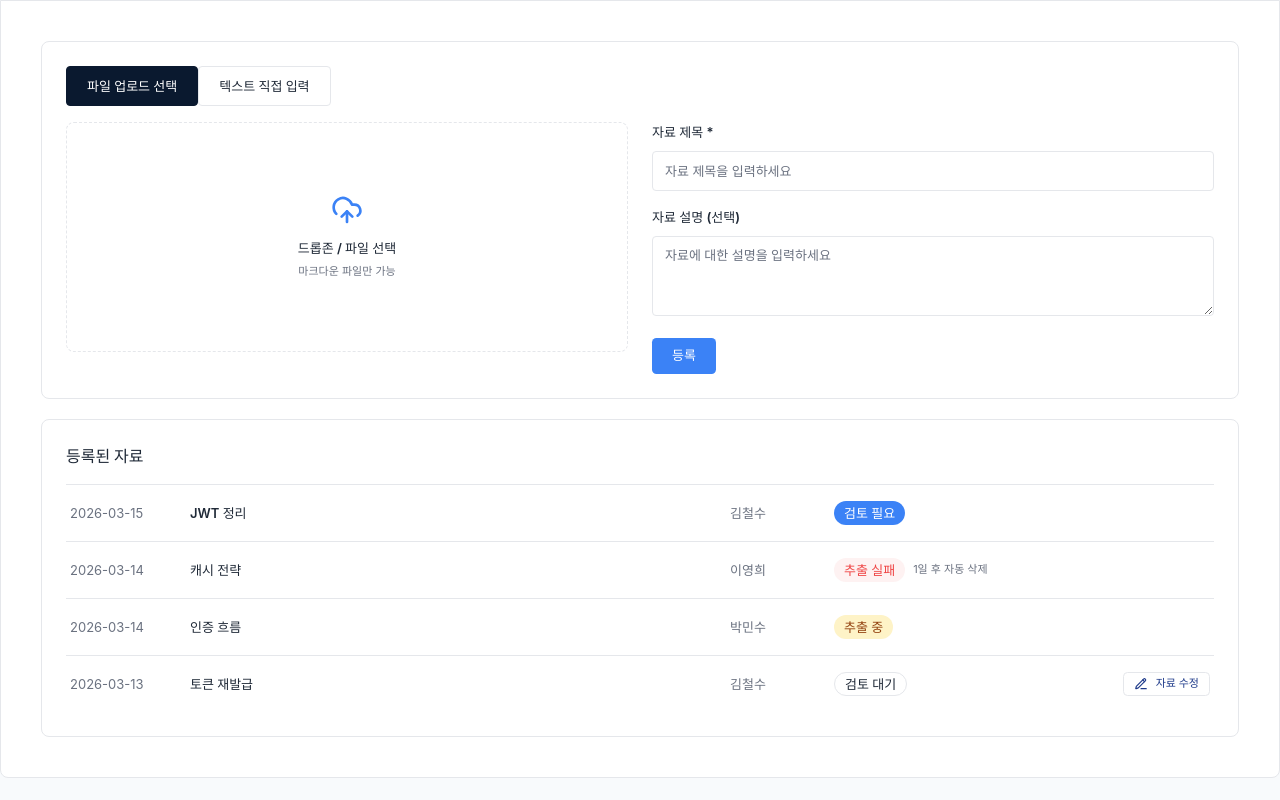
MaterialUploadPage › 파일 없이 등록하면 파일 선택 안내를 표시한다
The image size is (1280, 800).
In the field labelled "자료 제목 *": (933, 171) [652, 151, 1214, 191], type "JWT 정리"
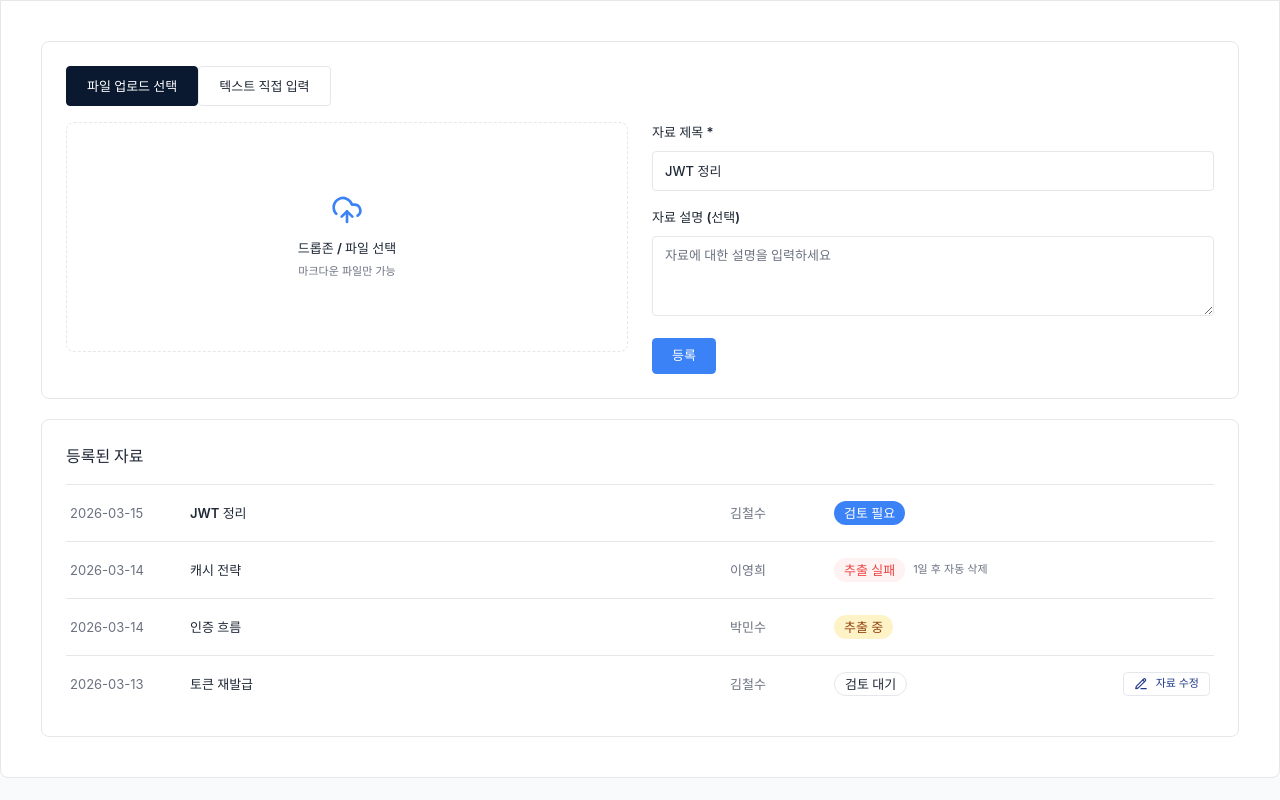
Click the button "등록": (684, 356) [652, 338, 716, 374]
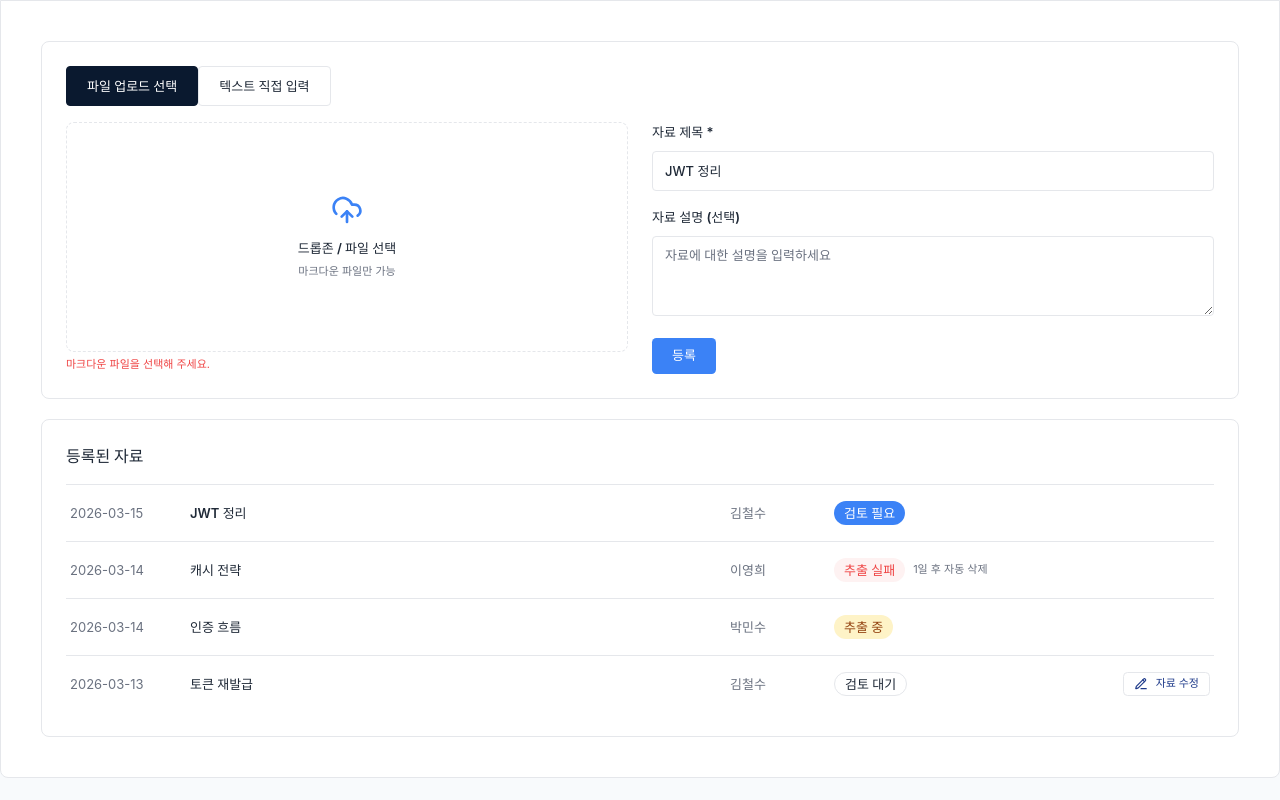
Expected: the text "마크다운 파일을 선택해 주세요." is shown, [66, 357, 210, 371]
